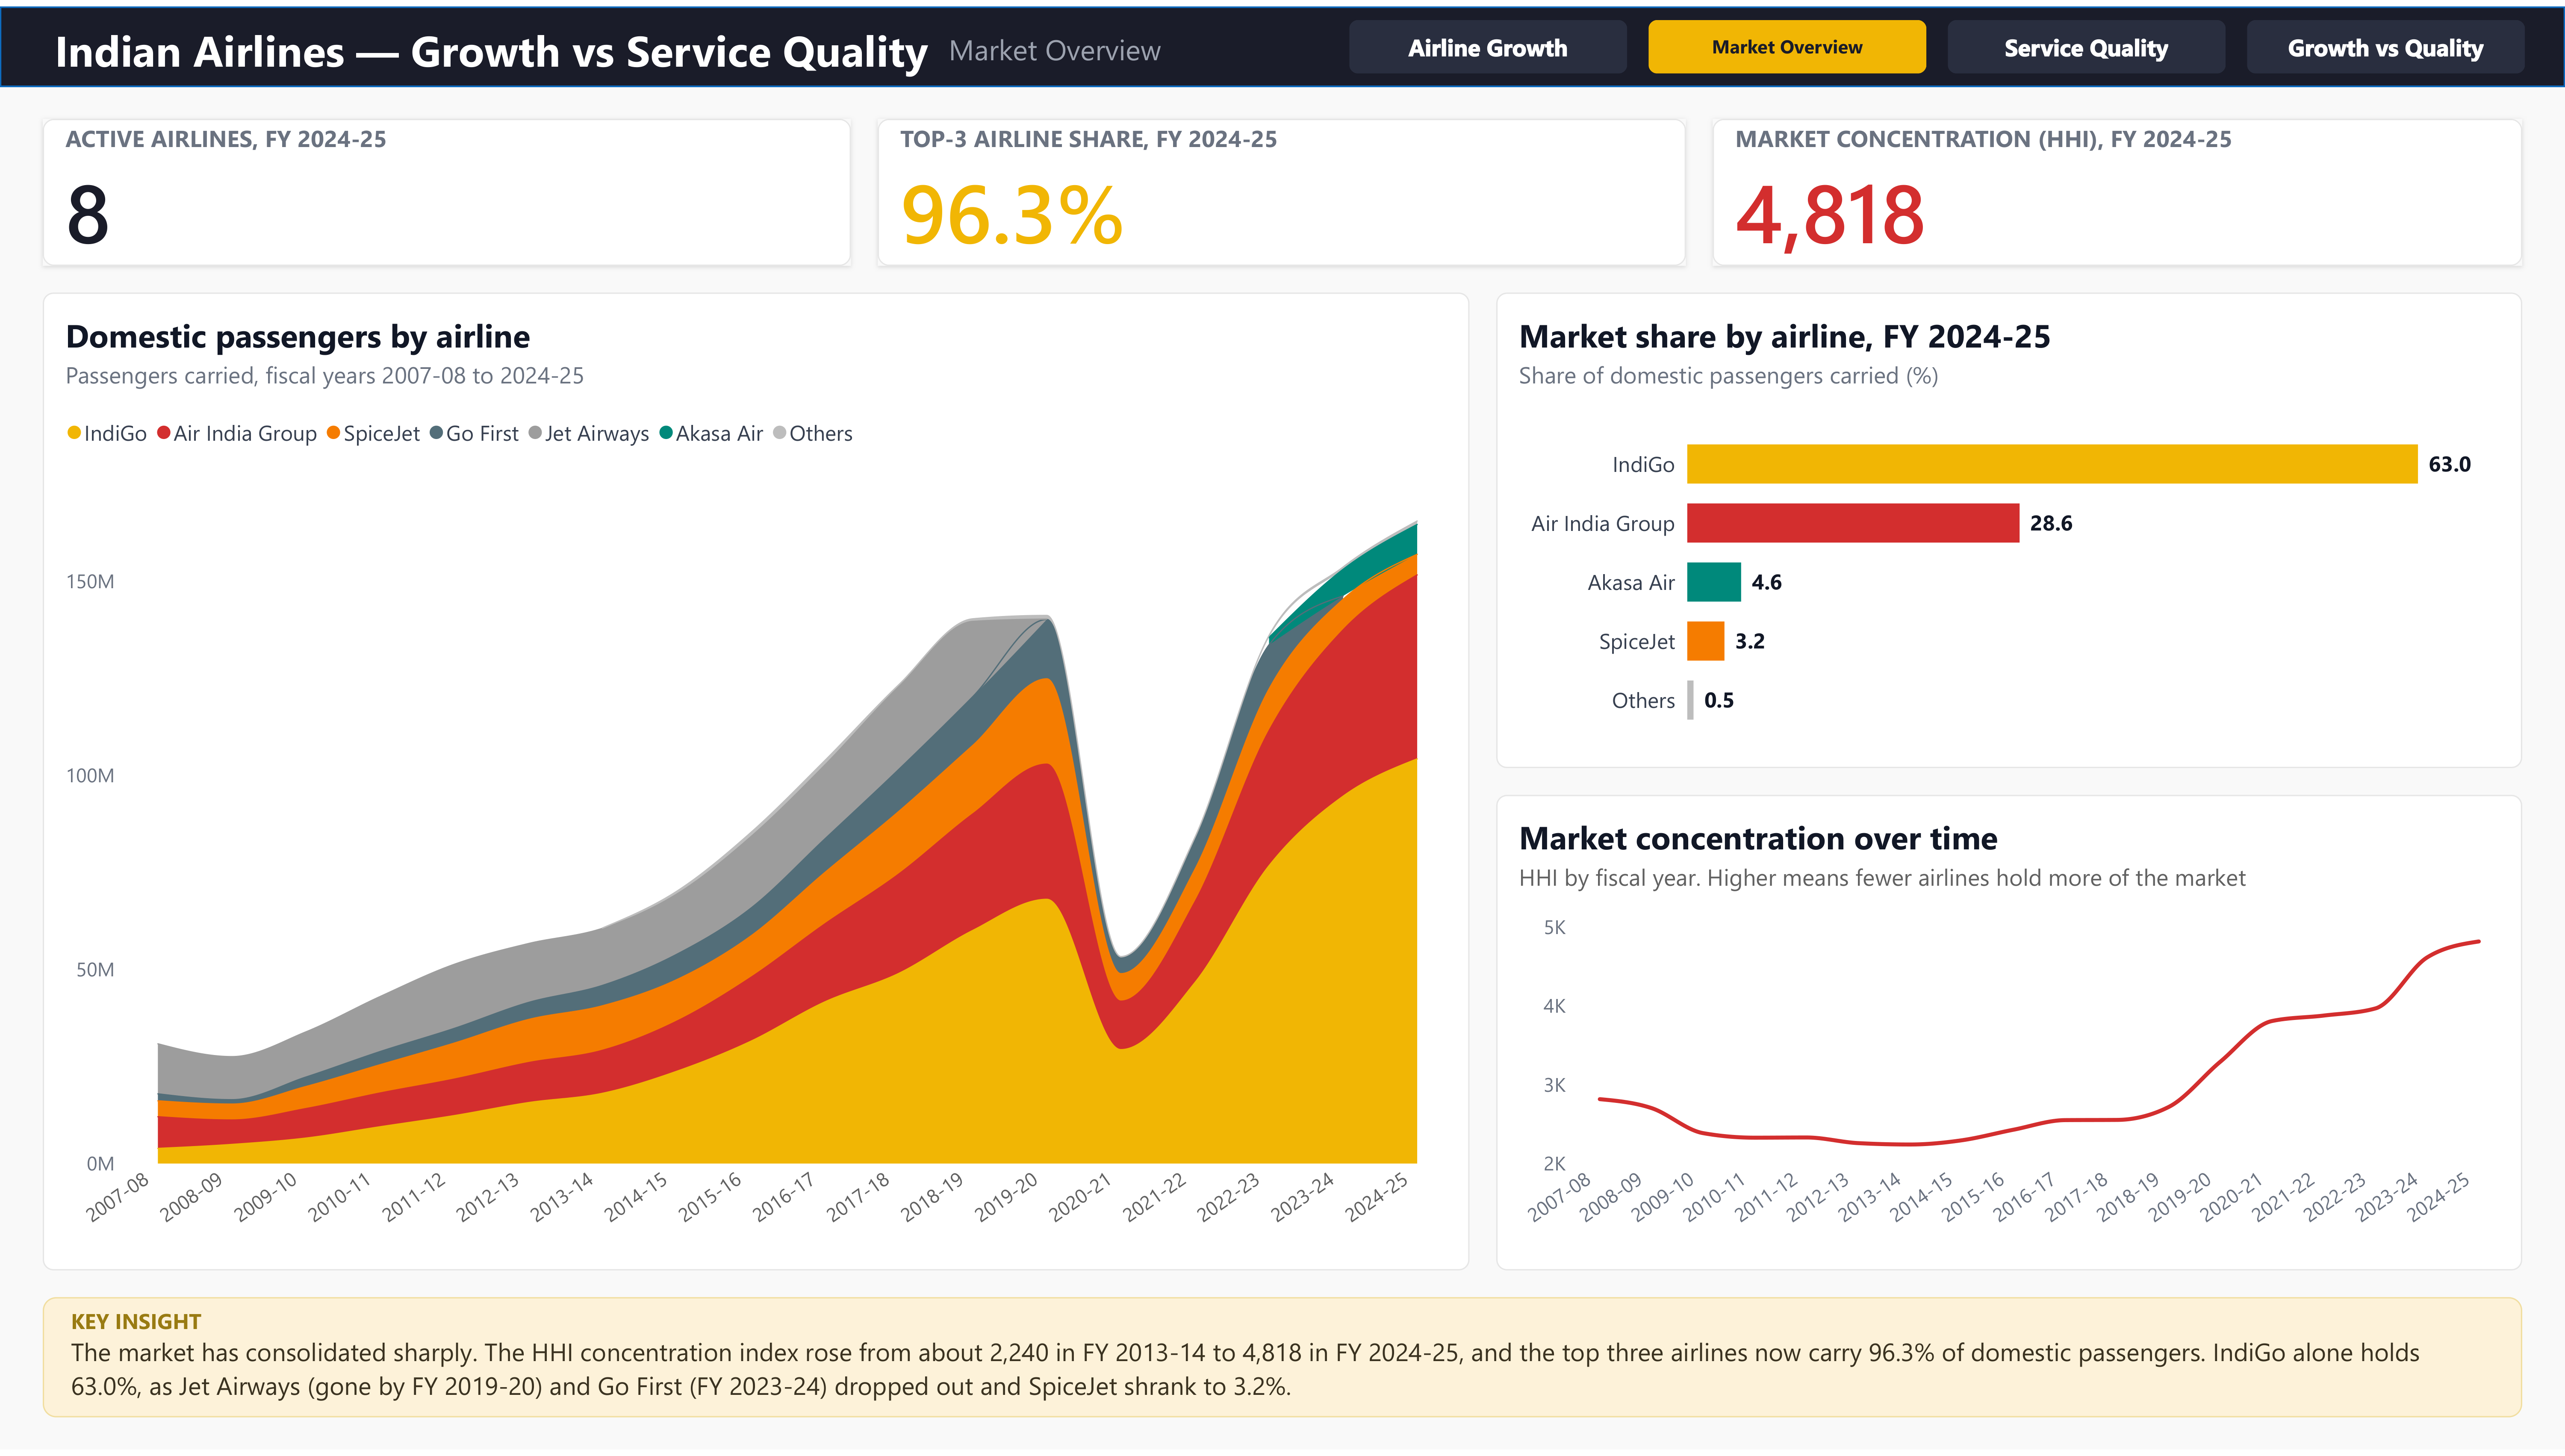

Layout of this report page (visuals, bound fields, positions):
{"tool":"powerbi","page":{"name":"Market Overview","canvas":[1920,1080],"ordinal":1},"visuals":[{"type":"shape","box":[0,0,1920,60],"z":0},{"type":"textbox","box":[32,10,666,50],"z":1000},{"type":"textbox","box":[710,17,300,30],"z":2000},{"type":"cardVisual","fields":{"Data":["public v_market_concentration.daxActive Airlines 2024-25"]},"box":[32,84,605,110],"z":3000},{"type":"cardVisual","fields":{"Data":["public v_market_concentration.Top 3 Share 2024-25"]},"box":[657,84,605,110],"z":4000},{"type":"cardVisual","fields":{"Data":["public v_market_concentration.HHI Display 2024-25"]},"box":[1282,84,606,110],"z":5000},{"type":"stackedAreaChart","title":" Domestic passengers by airline","fields":{"Category":["public v_airline_year.fiscal_year"],"Series":["public dim_airline.Airline Display"],"Y":["Sum(public v_airline_year.passengers)"]},"box":[32,214,1068,732],"z":6000},{"type":"clusteredBarChart","title":"Market share by airline, FY 2024-25","fields":{"Category":["public dim_airline.Airline Display"],"Y":["Sum(public v_airline_year.market_share_pct)"]},"box":[1120,214,768,356],"z":7000},{"type":"lineChart","title":" Market concentration over time","fields":{"Category":["public v_market_concentration.fiscal_year"],"Y":["Sum(public v_market_concentration.hhi)"]},"box":[1120,590,768,356],"z":8000},{"type":"textbox","box":[32,966,1856,90],"z":9000},{"type":"pageNavigator","box":[1010,10,880,40],"z":9001}]}

Visuals, with their boxes in screenshot pixels (x1, y1, x2, y2), scaled from the page's 1920x1080 canvas onto the 2565x1456 screenshot:
shape: BBox(0, 0, 2565, 81)
textbox: BBox(43, 14, 932, 81)
textbox: BBox(949, 23, 1349, 63)
cardVisual - public v_market_concentration.daxActive Airlines 2024-25: BBox(43, 113, 851, 262)
cardVisual - public v_market_concentration.Top 3 Share 2024-25: BBox(878, 113, 1686, 262)
cardVisual - public v_market_concentration.HHI Display 2024-25: BBox(1713, 113, 2522, 262)
" Domestic passengers by airline" stackedAreaChart: BBox(43, 289, 1470, 1275)
"Market share by airline, FY 2024-25" clusteredBarChart: BBox(1496, 289, 2522, 769)
" Market concentration over time" lineChart: BBox(1496, 796, 2522, 1275)
textbox: BBox(43, 1302, 2522, 1424)
pageNavigator: BBox(1349, 14, 2525, 68)
